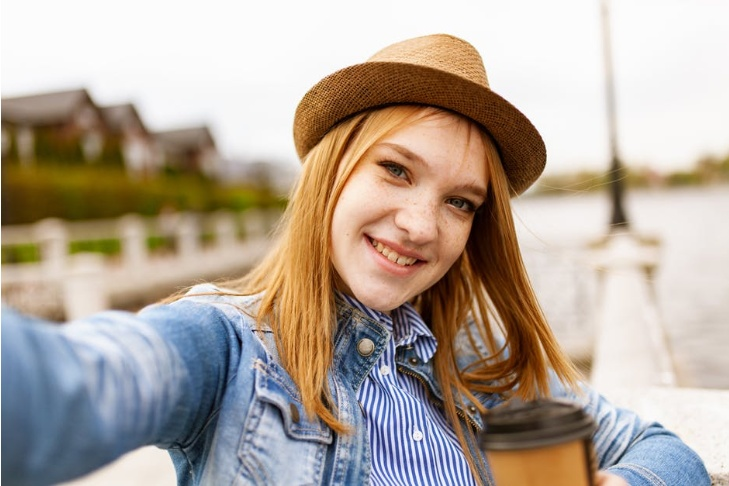face: (334, 115, 485, 319)
